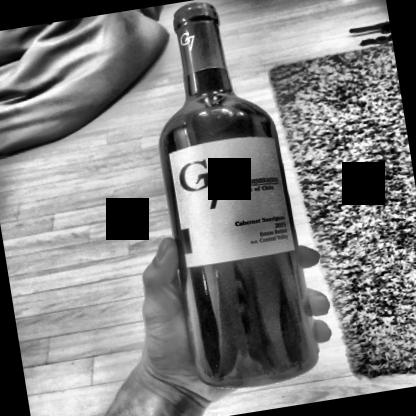G7: (162, 130, 300, 276)
